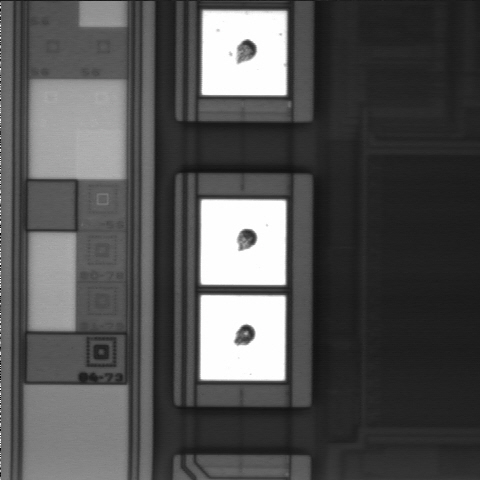pad: (201, 200, 286, 285), (200, 295, 285, 380), (202, 11, 286, 95)
